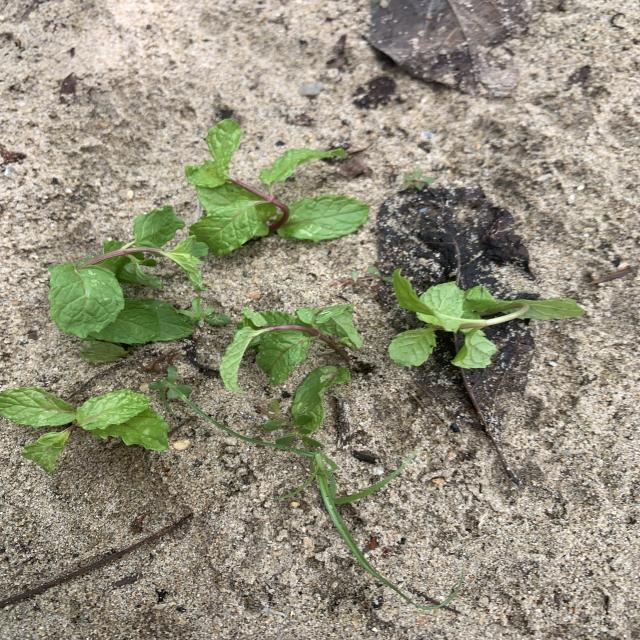crop: (48, 206, 212, 363), (185, 120, 369, 256), (389, 268, 585, 368), (218, 305, 361, 432), (0, 387, 168, 472)
weed: (181, 393, 415, 601), (257, 400, 321, 448), (149, 366, 192, 408), (178, 297, 231, 326), (338, 265, 386, 289), (403, 170, 435, 191)
